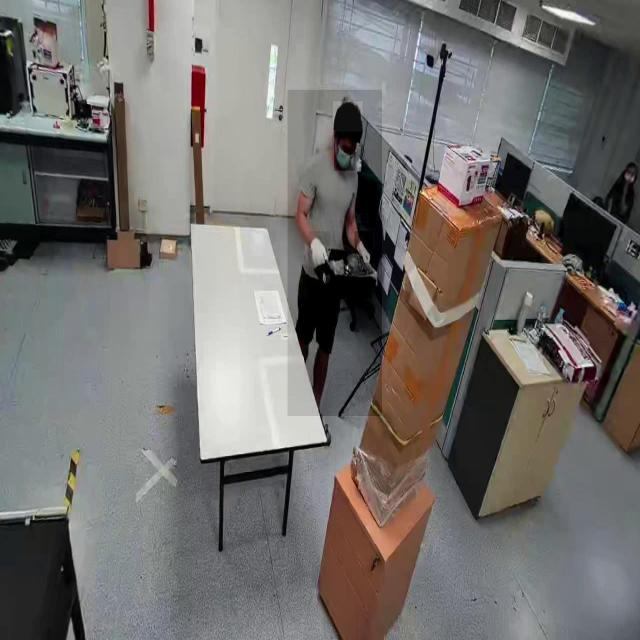face_mask: (334, 125, 356, 171)
hand_glove: (309, 231, 331, 277), (354, 231, 374, 277)
head_nohelmet: (333, 101, 363, 132), (626, 160, 638, 169)
person: (288, 90, 382, 417)
